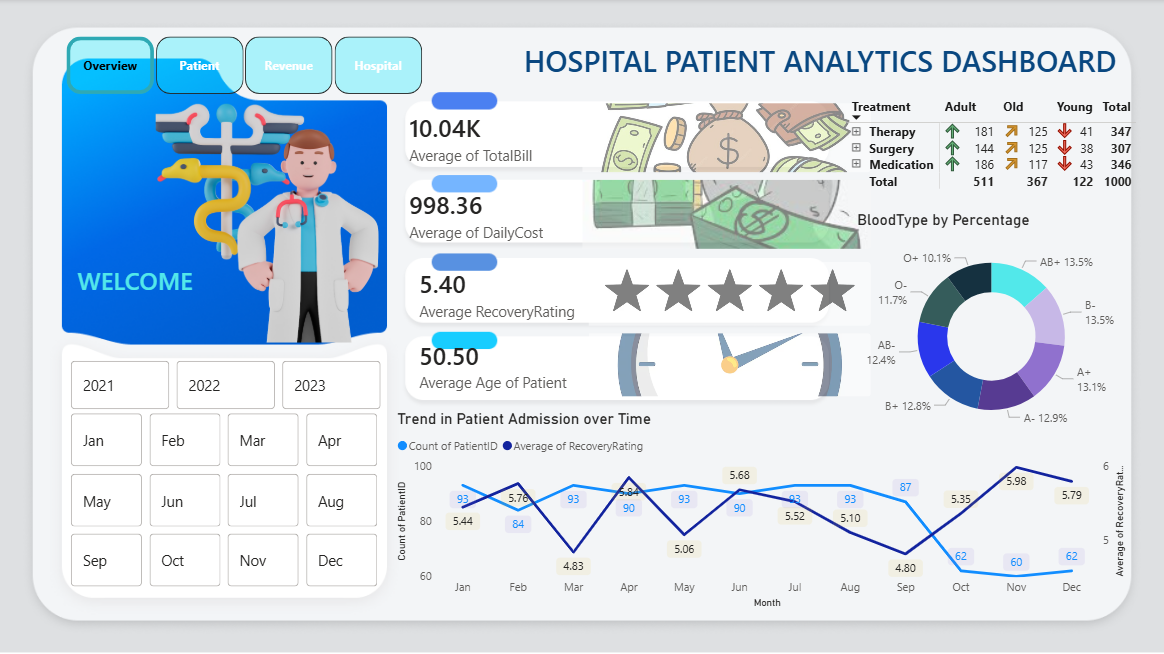

The page's visual inventory and layout, read from the dashboard file:
{"tool":"powerbi","page":{"name":"Overview","canvas":[1280,720],"ordinal":0},"visuals":[{"type":"cardVisual","fields":{"Data":["Avg(hospital1_clean.TotalBill)","Avg(hospital2_clean.DailyCost)"]},"box":[421.3,97.4,553,194.9],"z":0},{"type":"cardVisual","fields":{"Data":["Avg(hospital2_clean.RecoveryRating)","Avg(hospital1_clean.Age)"]},"box":[432.2,271.7,542,183.9],"z":1000},{"type":"advancedSlicerVisual","fields":{"Values":["hospital1_clean.Month"]},"box":[74.1,450.1,347.2,200.3],"z":2000},{"type":"advancedSlicerVisual","fields":{"Values":["hospital1_clean.Year"]},"box":[74.1,392.5,352.7,63.1],"z":3000},{"type":"pivotTable","fields":{"Rows":["hospital1_clean.Treatment","hospital1_clean.Diagnosis"],"Columns":["hospital1_clean.Age Category"],"Values":["CountNonNull(hospital1_clean.PatientID)"]},"box":[926.2,104.3,332.1,181.1],"z":4000},{"type":"lineChart","title":"Trend in Patient Admission over Time","fields":{"Category":["hospital1_clean.Month"],"Y":["CountNonNull(hospital1_clean.PatientID)"],"Y2":["Avg(hospital2_clean.RecoveryRating)"]},"box":[432.2,450.1,809.6,223.7],"z":5000},{"type":"donutChart","title":" BloodType by Percentage","fields":{"Y":["CountNonNull(hospital1_clean.BloodType)"],"Category":["hospital1_clean.BloodType"]},"box":[937.2,231.9,304.6,256.6],"z":6000},{"type":"cardVisual","fields":{"Data":["Avg(hospital1_clean.TotalBill)"]},"box":[0,93.3,432.2,299.1],"z":7000},{"type":"textbox","box":[0,285.4,299.1,53.5],"z":8000},{"type":"textbox","box":[537.9,41.2,727.3,52.1],"z":9000},{"type":"pageNavigator","box":[74.1,41.2,392.5,63.1],"z":9001}]}

Visuals, with their boxes in screenshot pixels (x1, y1, x2, y2), scaled from the page's 1280x720 canvas onto the 1164x654 screenshot:
cardVisual - Avg(hospital1_clean.TotalBill) x Avg(hospital2_clean.DailyCost): [383,88,886,266]
cardVisual - Avg(hospital2_clean.RecoveryRating) x Avg(hospital1_clean.Age): [393,247,886,414]
advancedSlicerVisual - hospital1_clean.Month: [67,409,383,591]
advancedSlicerVisual - hospital1_clean.Year: [67,357,388,414]
pivotTable - hospital1_clean.Treatment x hospital1_clean.Diagnosis: [842,95,1144,259]
"Trend in Patient Admission over Time" lineChart: [393,409,1129,612]
" BloodType by Percentage" donutChart: [852,211,1129,444]
cardVisual - Avg(hospital1_clean.TotalBill): [0,85,393,356]
textbox: [0,259,272,308]
textbox: [489,37,1151,85]
pageNavigator: [67,37,424,95]
